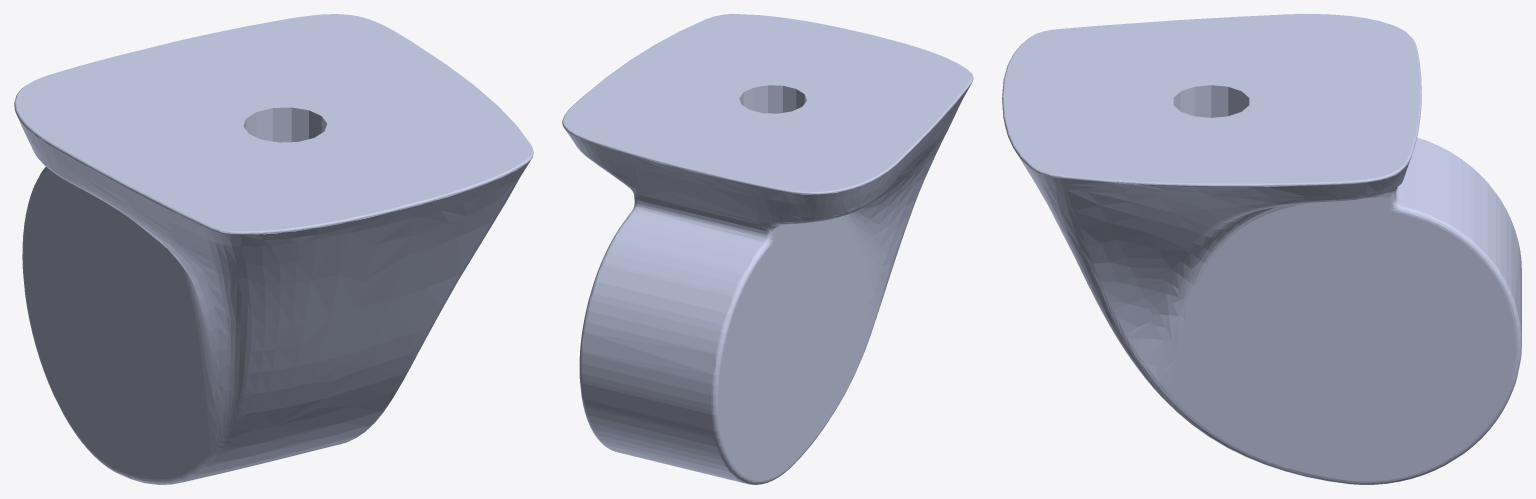
The model's file is right_shoulder_pitch_link.dae.
The picture shows the model from 3 angles, left to right: view 1: azimuth 30°, elevation 25°; view 2: azimuth 150°, elevation 25°; view 3: azimuth 270°, elevation 25°; orthographic projection. The views are drawn at different scales.
Visible parts, largest first — view 1: right_shoulder_pitch_link; view 2: right_shoulder_pitch_link; view 3: right_shoulder_pitch_link.
Boxes of the visible parts, x1,y1,x2,y2 form: right_shoulder_pitch_link: (14, 14, 533, 484); right_shoulder_pitch_link: (562, 14, 973, 484); right_shoulder_pitch_link: (1002, 14, 1521, 484).
Bounding box in the file's own units: 0.1042 × 0.1 × 0.1339.
